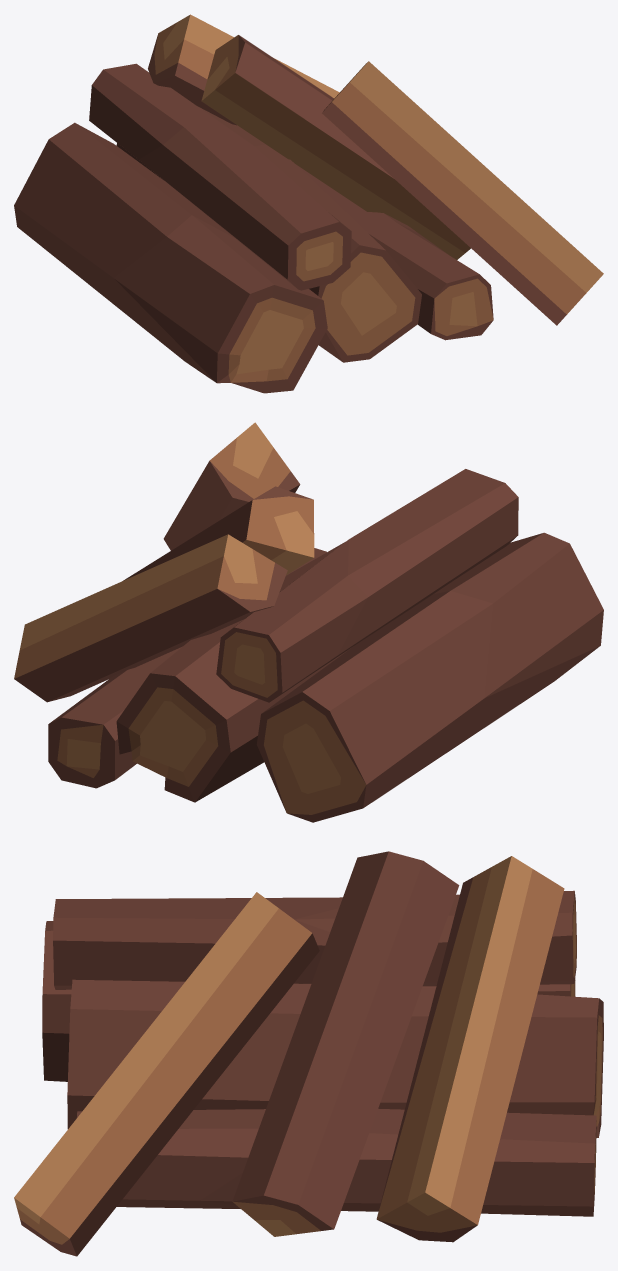
Rendered from pile_of_decks.fbx.
The picture shows the model from 3 angles, top to bottom: view 1: azimuth 30°, elevation 25°; view 2: azimuth 150°, elevation 25°; view 3: azimuth 270°, elevation 25°; orthographic projection. The views are drawn at different scales.
Parts seen in each view (by area): view 1: pile_of_decks; view 2: pile_of_decks; view 3: pile_of_decks.
Boxes of the visible parts, x1,y1,x2,y2 form: pile_of_decks: (14, 14, 603, 393); pile_of_decks: (14, 422, 603, 822); pile_of_decks: (14, 851, 603, 1256).
Bounding box in the file's own units: 0.5555 × 0.3246 × 0.5762.
